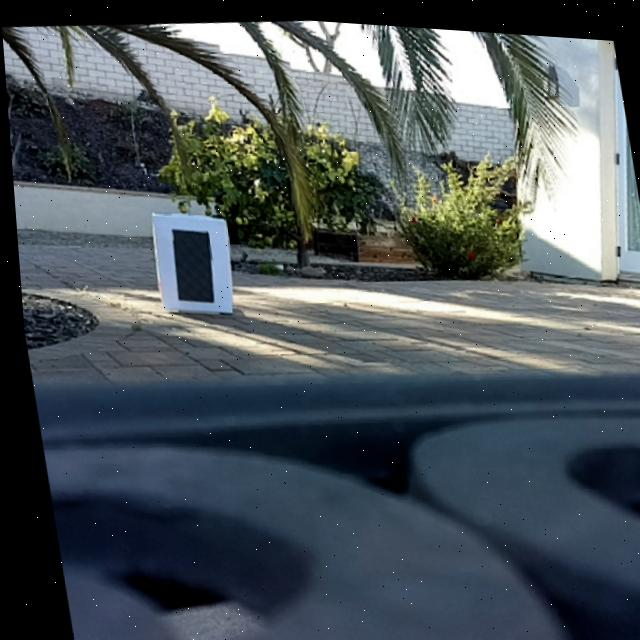led: (164, 223, 215, 303)
